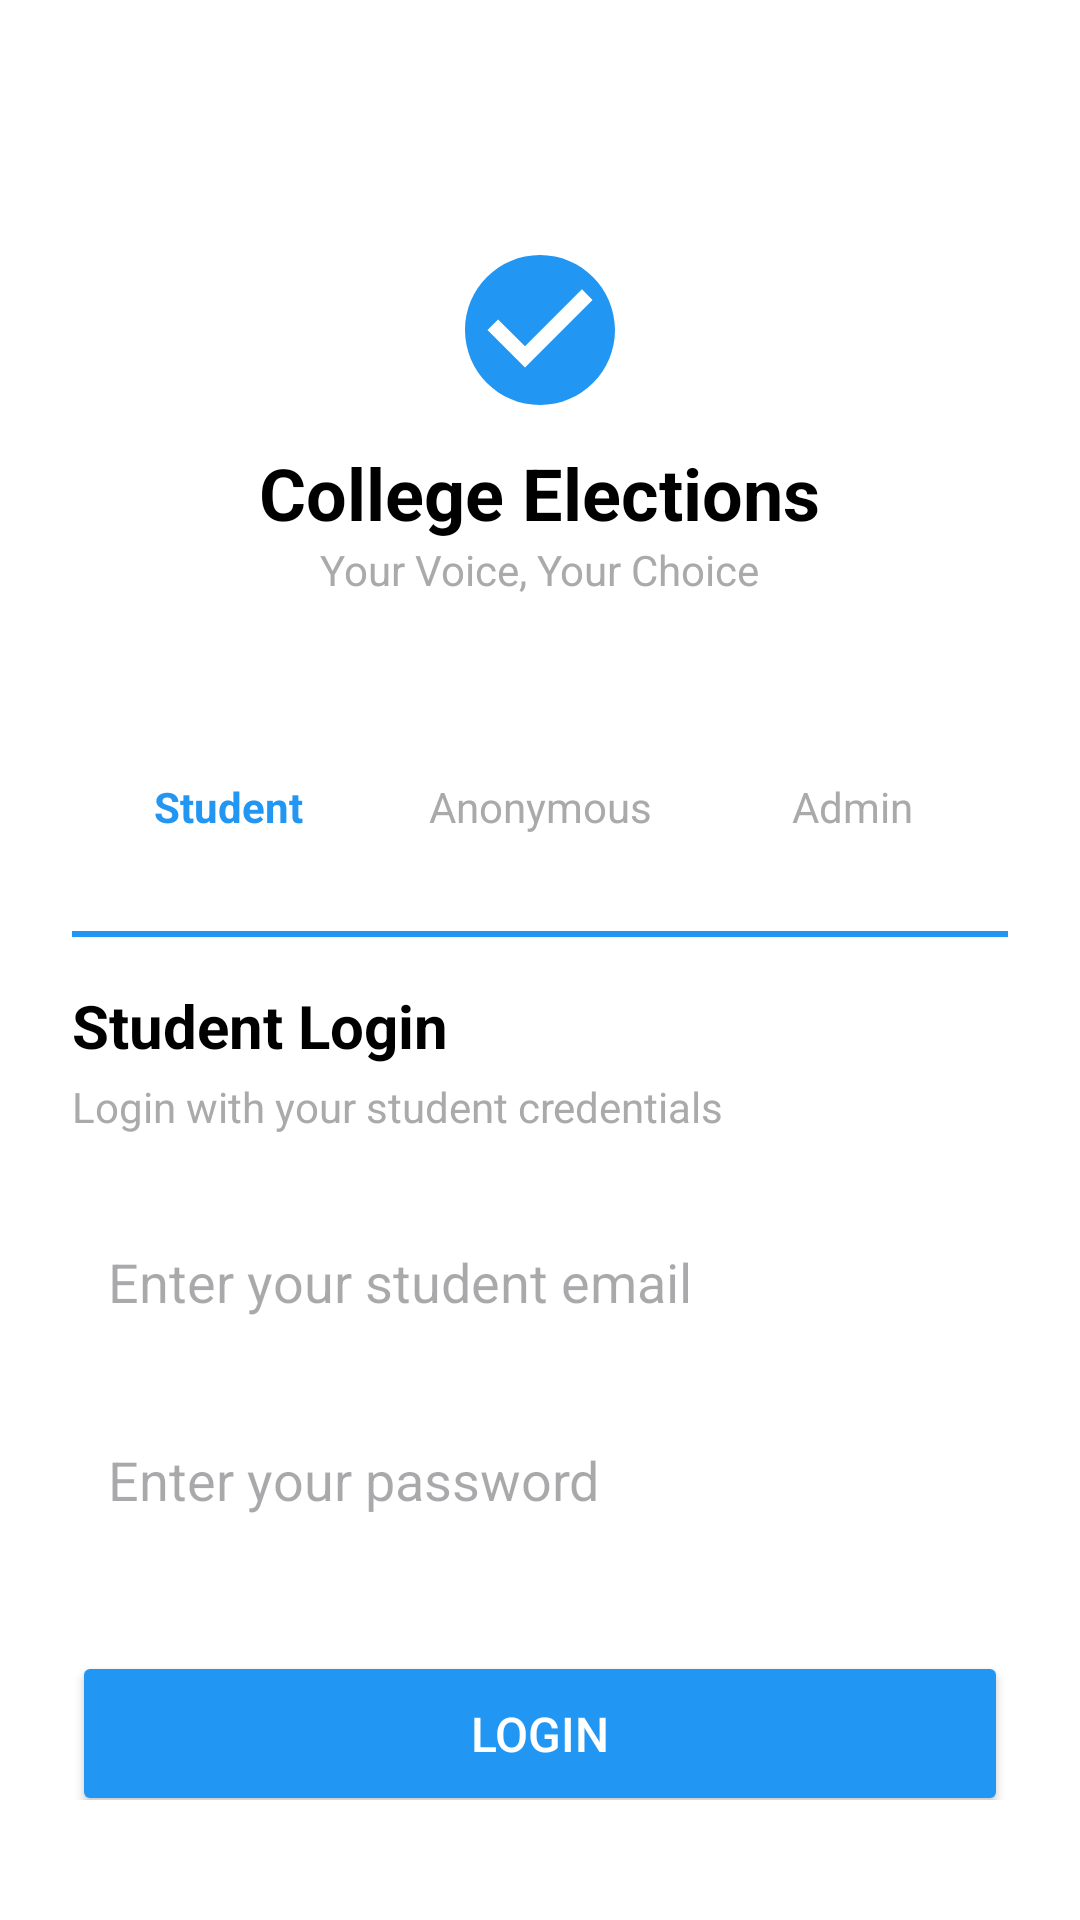

Named icons in this screenshot (1080*1920) and their bounding boxes, (x1, y1, x2, y2):
check circle: (465, 255, 615, 405)
